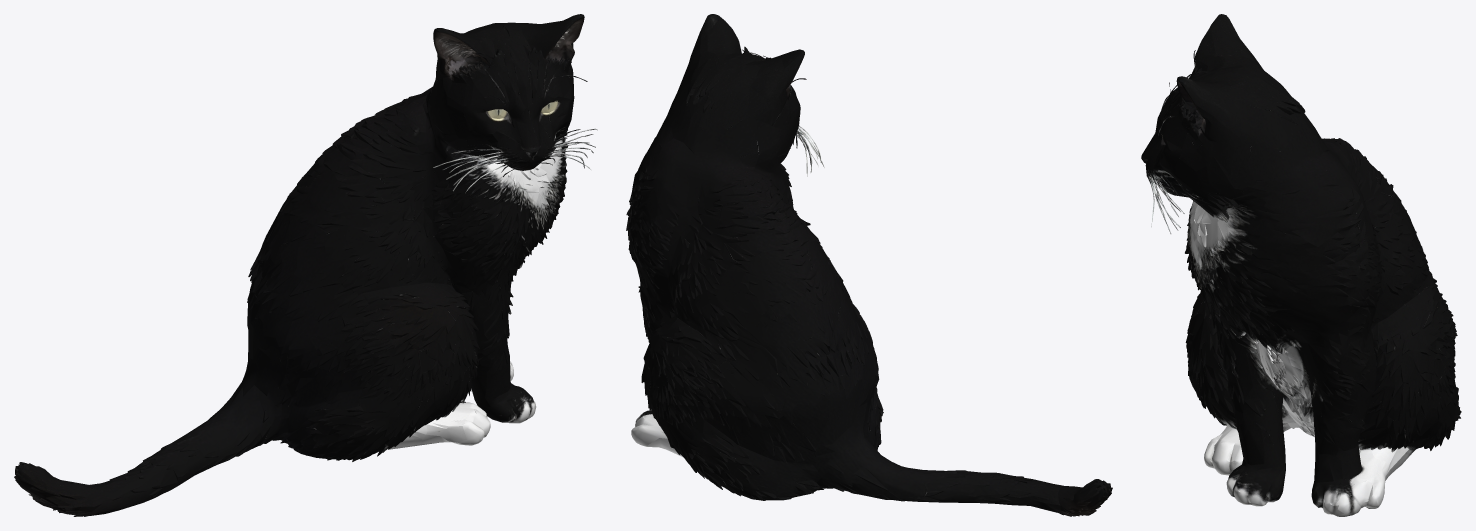
File: charis_cat.glb
3 views of the same model, side by side, from view 1: azimuth 30°, elevation 25°; view 2: azimuth 150°, elevation 25°; view 3: azimuth 270°, elevation 25° (orthographic). The views are drawn at different scales.
Visible parts, largest first — view 1: output_unwrapped; view 2: output_unwrapped; view 3: output_unwrapped.
Part boxes in pixels (box(x1,y1,x2,y2)): output_unwrapped: box(14, 14, 597, 516); output_unwrapped: box(626, 14, 1112, 516); output_unwrapped: box(1141, 14, 1461, 516).
Size of the model in its own units: 1.9 by 1.43 by 0.9425.
1 material, 1 textured.
